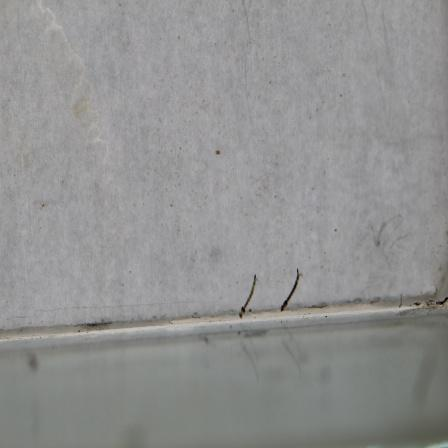Jentik-Nyamuk: (277, 265, 303, 314), (235, 272, 261, 320)
